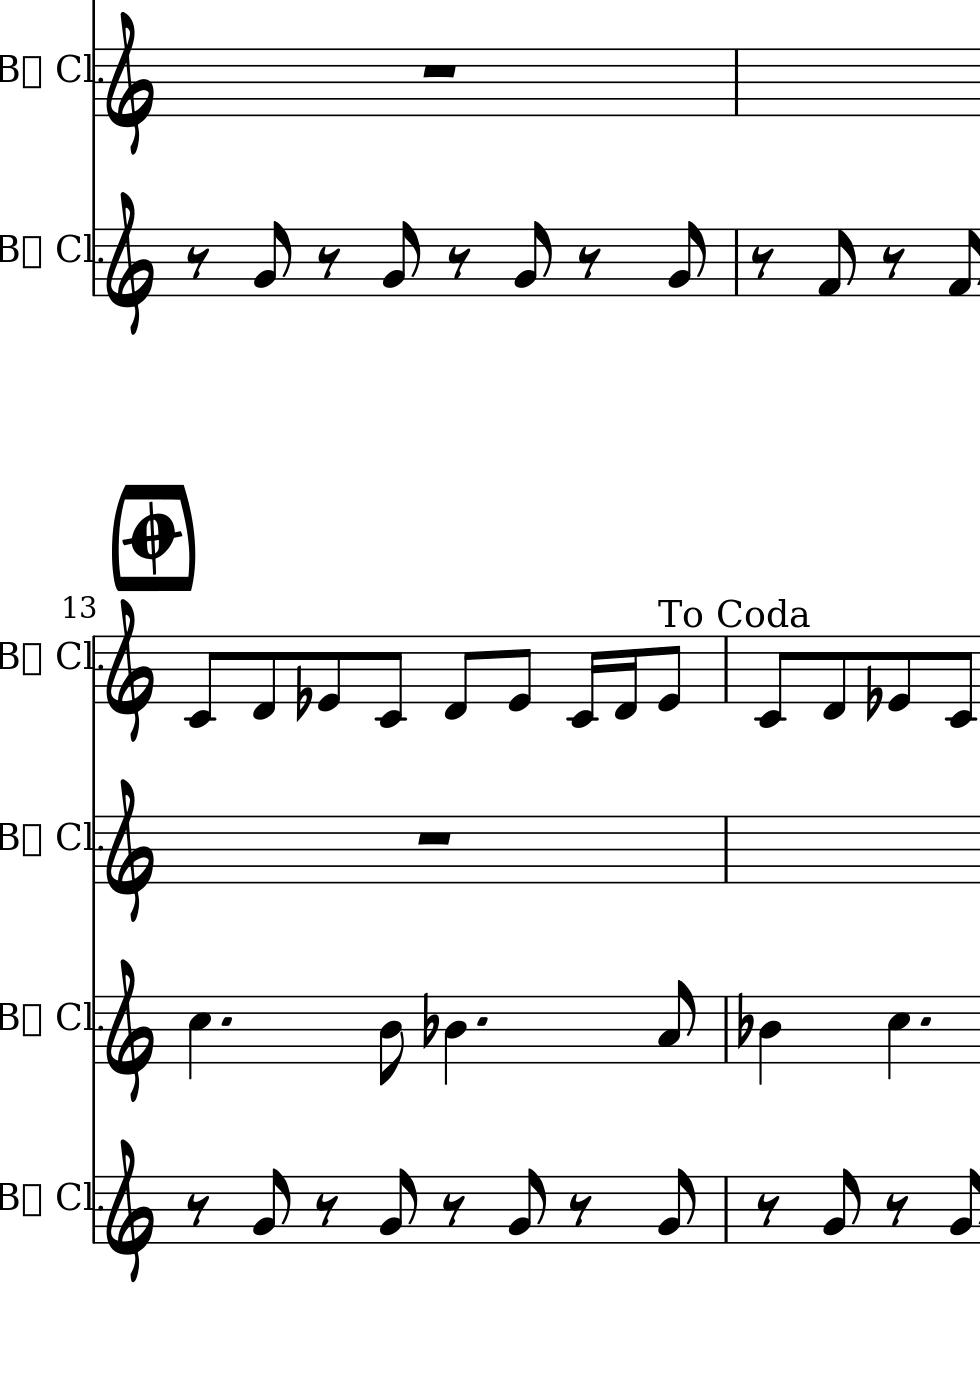1: (63, 593, 76, 622)
16_-1: (612, 632, 638, 725)
16_-2: (567, 634, 602, 731)
3: (78, 593, 97, 622)
4_4: (442, 994, 468, 1087), (757, 994, 782, 1085)
4_5: (186, 993, 212, 1082), (885, 994, 911, 1083)
8_-1: (441, 633, 474, 722), (250, 633, 278, 723), (821, 634, 847, 723)
8_-2: (183, 633, 223, 730), (754, 634, 793, 729), (943, 634, 975, 729), (375, 633, 406, 730)
8_0: (506, 633, 533, 713), (886, 634, 912, 714), (316, 633, 342, 713), (657, 635, 682, 714)
8_1: (815, 228, 858, 298), (945, 227, 977, 298)
8_2: (821, 1166, 861, 1245), (512, 220, 552, 297), (378, 1168, 417, 1245), (507, 1168, 546, 1245), (657, 1168, 696, 1245), (381, 220, 420, 296), (667, 220, 705, 297), (251, 1166, 290, 1244), (252, 220, 291, 296)
8_3: (657, 978, 695, 1065)
8_4: (377, 994, 405, 1087)
Cl: (55, 817, 91, 854), (55, 997, 91, 1033), (55, 638, 90, 673), (55, 1178, 90, 1213), (56, 50, 90, 84), (56, 231, 90, 264)
Coda: (125, 501, 180, 571)
Flat: (419, 989, 440, 1051), (734, 990, 754, 1050), (292, 664, 311, 724), (863, 664, 881, 724)
Gclef: (104, 777, 158, 924), (103, 8, 155, 156), (104, 958, 156, 1105), (105, 1137, 156, 1285), (105, 191, 156, 338), (104, 596, 155, 743)
Rests1: (413, 827, 455, 849), (418, 62, 460, 81)
Rests4: (879, 244, 906, 280)
Rests8: (183, 244, 211, 280), (314, 244, 342, 280), (753, 1192, 781, 1228), (749, 244, 775, 281), (182, 1192, 211, 1226), (575, 245, 602, 280), (312, 1192, 339, 1227), (566, 1192, 593, 1227), (445, 244, 471, 280), (439, 1193, 466, 1227), (883, 1193, 910, 1227)
Single_barline: (727, 229, 743, 295), (717, 997, 734, 1062), (717, 1177, 734, 1242), (728, 49, 743, 115), (718, 815, 733, 883), (718, 637, 733, 702), (89, 996, 103, 1064), (88, 229, 102, 296), (89, 815, 102, 885), (89, 49, 102, 117), (89, 636, 102, 704), (89, 1176, 102, 1244)
ToCoda: (650, 595, 809, 631)
dot: (916, 1014, 934, 1029), (218, 1014, 235, 1029), (473, 1014, 490, 1029)
